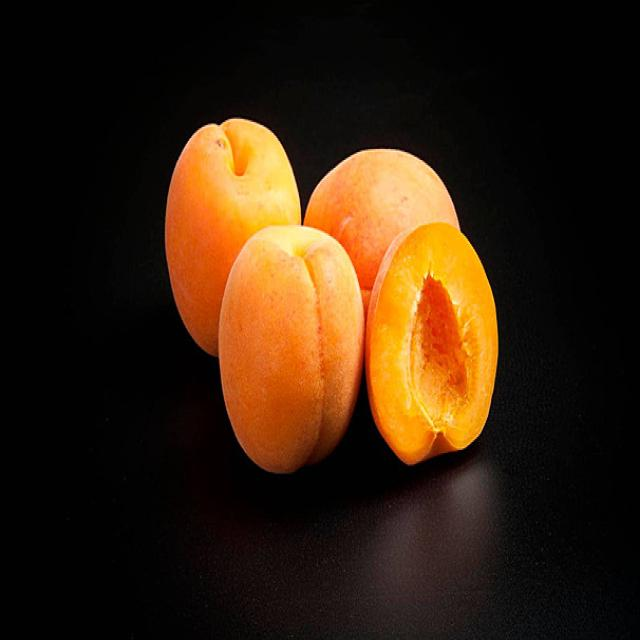kayisi: (146, 93, 569, 498)
